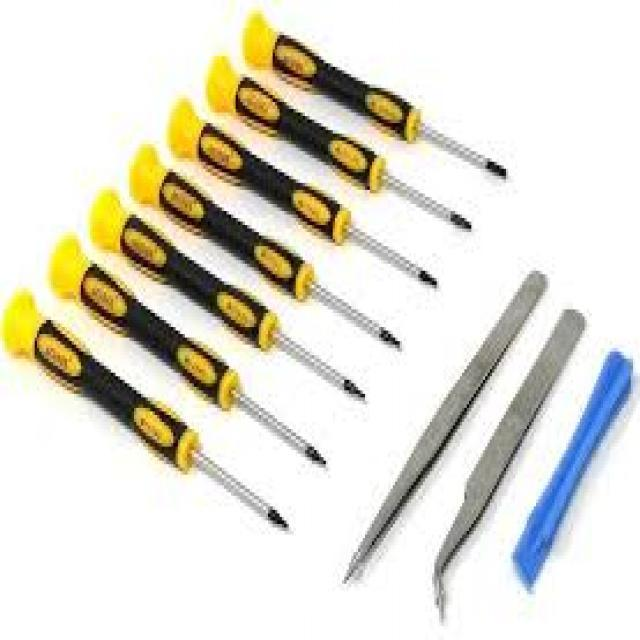screwdriver: (0, 288, 293, 534), (44, 226, 328, 469), (84, 181, 368, 403), (123, 139, 404, 353), (154, 90, 442, 298), (235, 5, 522, 185), (201, 60, 476, 246)
